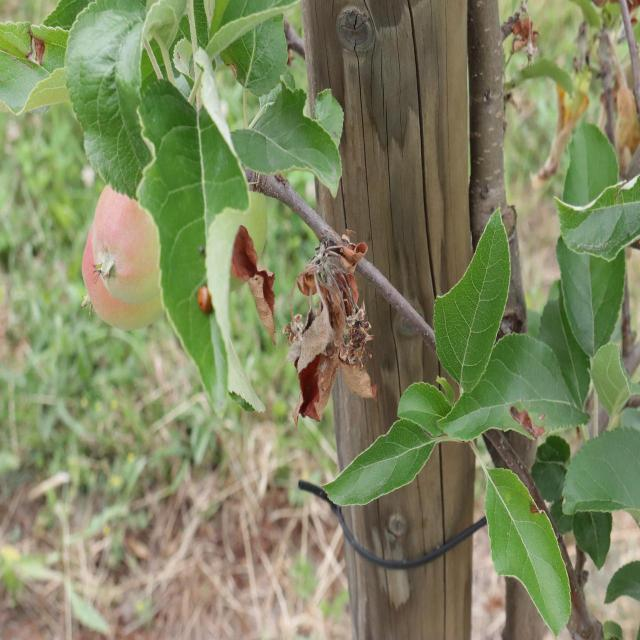-FireBlight-: (306, 228, 370, 415), (220, 233, 284, 334), (595, 71, 640, 172), (540, 94, 576, 194)
